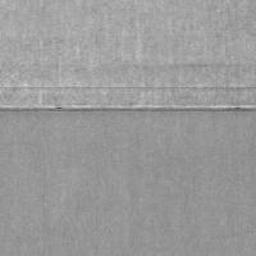Welding line: (0, 102, 256, 114)
